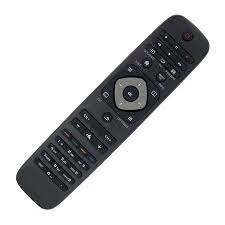remote control: (13, 1, 215, 212)
